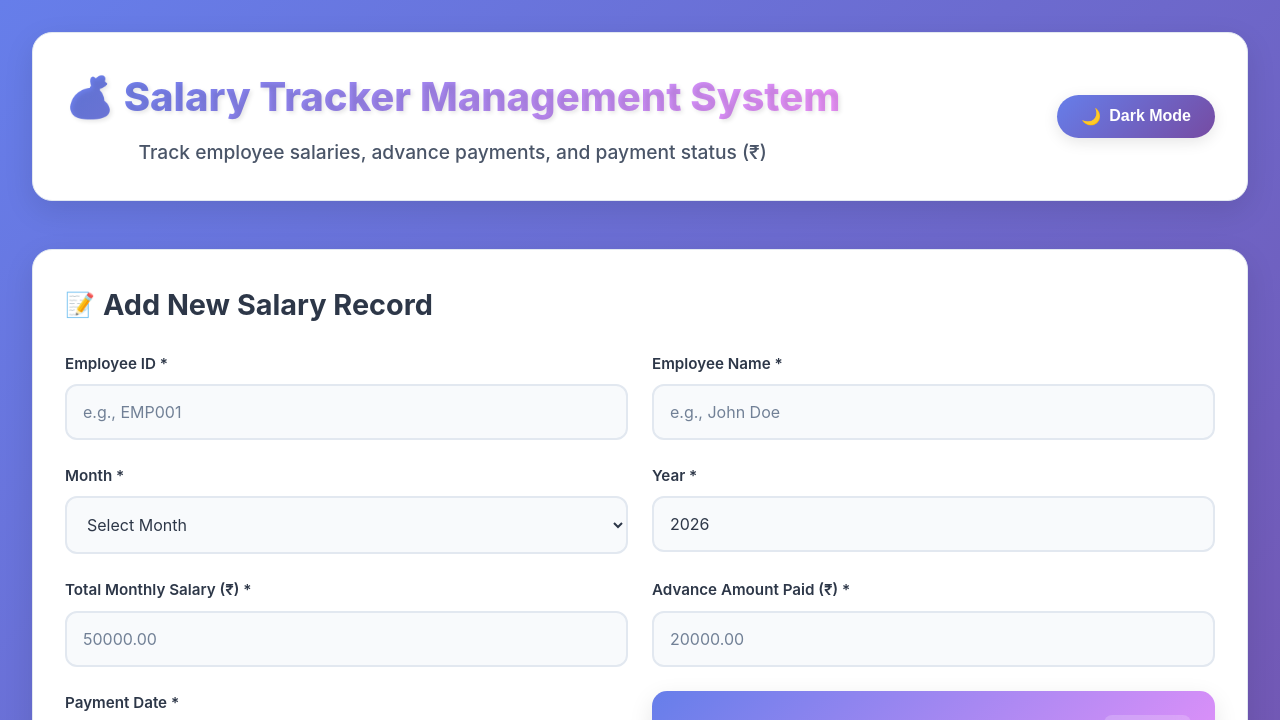
Test case: SalaryTracker Component › validates advance amount does not exceed total salary
Type "3000" into the number field labelled "Total Monthly Salary (₹) *".
click(346, 639); type("3000")  # box [65,611,628,667]
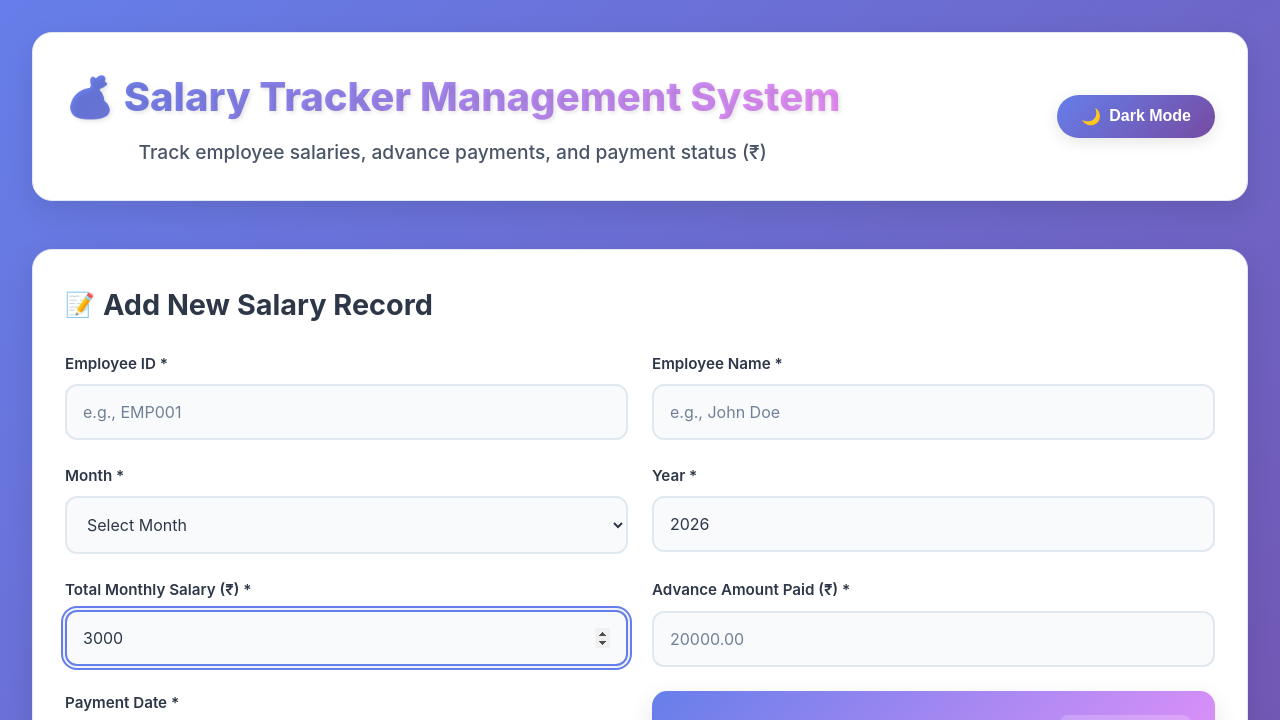
Type "5000" into the number field labelled "Advance Amount Paid (₹) *".
click(934, 639); type("5000")  # box [652,611,1215,667]
(page scrolled)
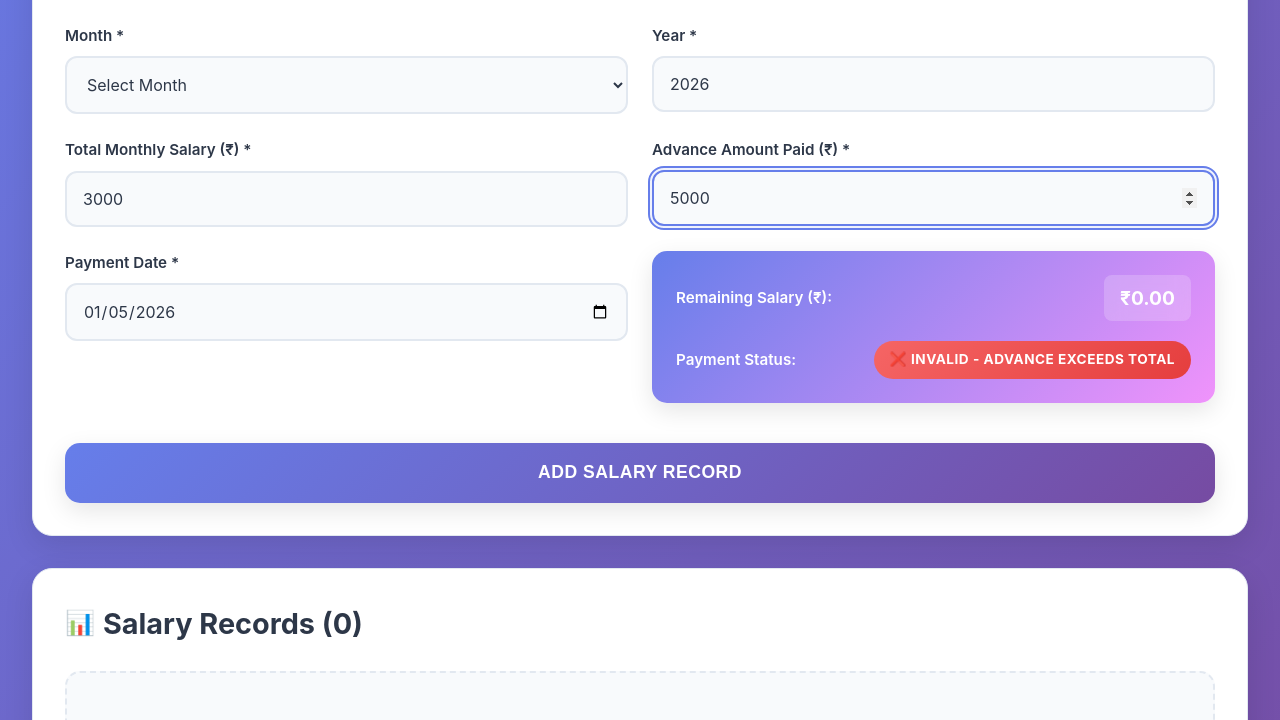
expect the text "Invalid - Advance exceeds total" is shown: met, box [874,341,1191,379]
